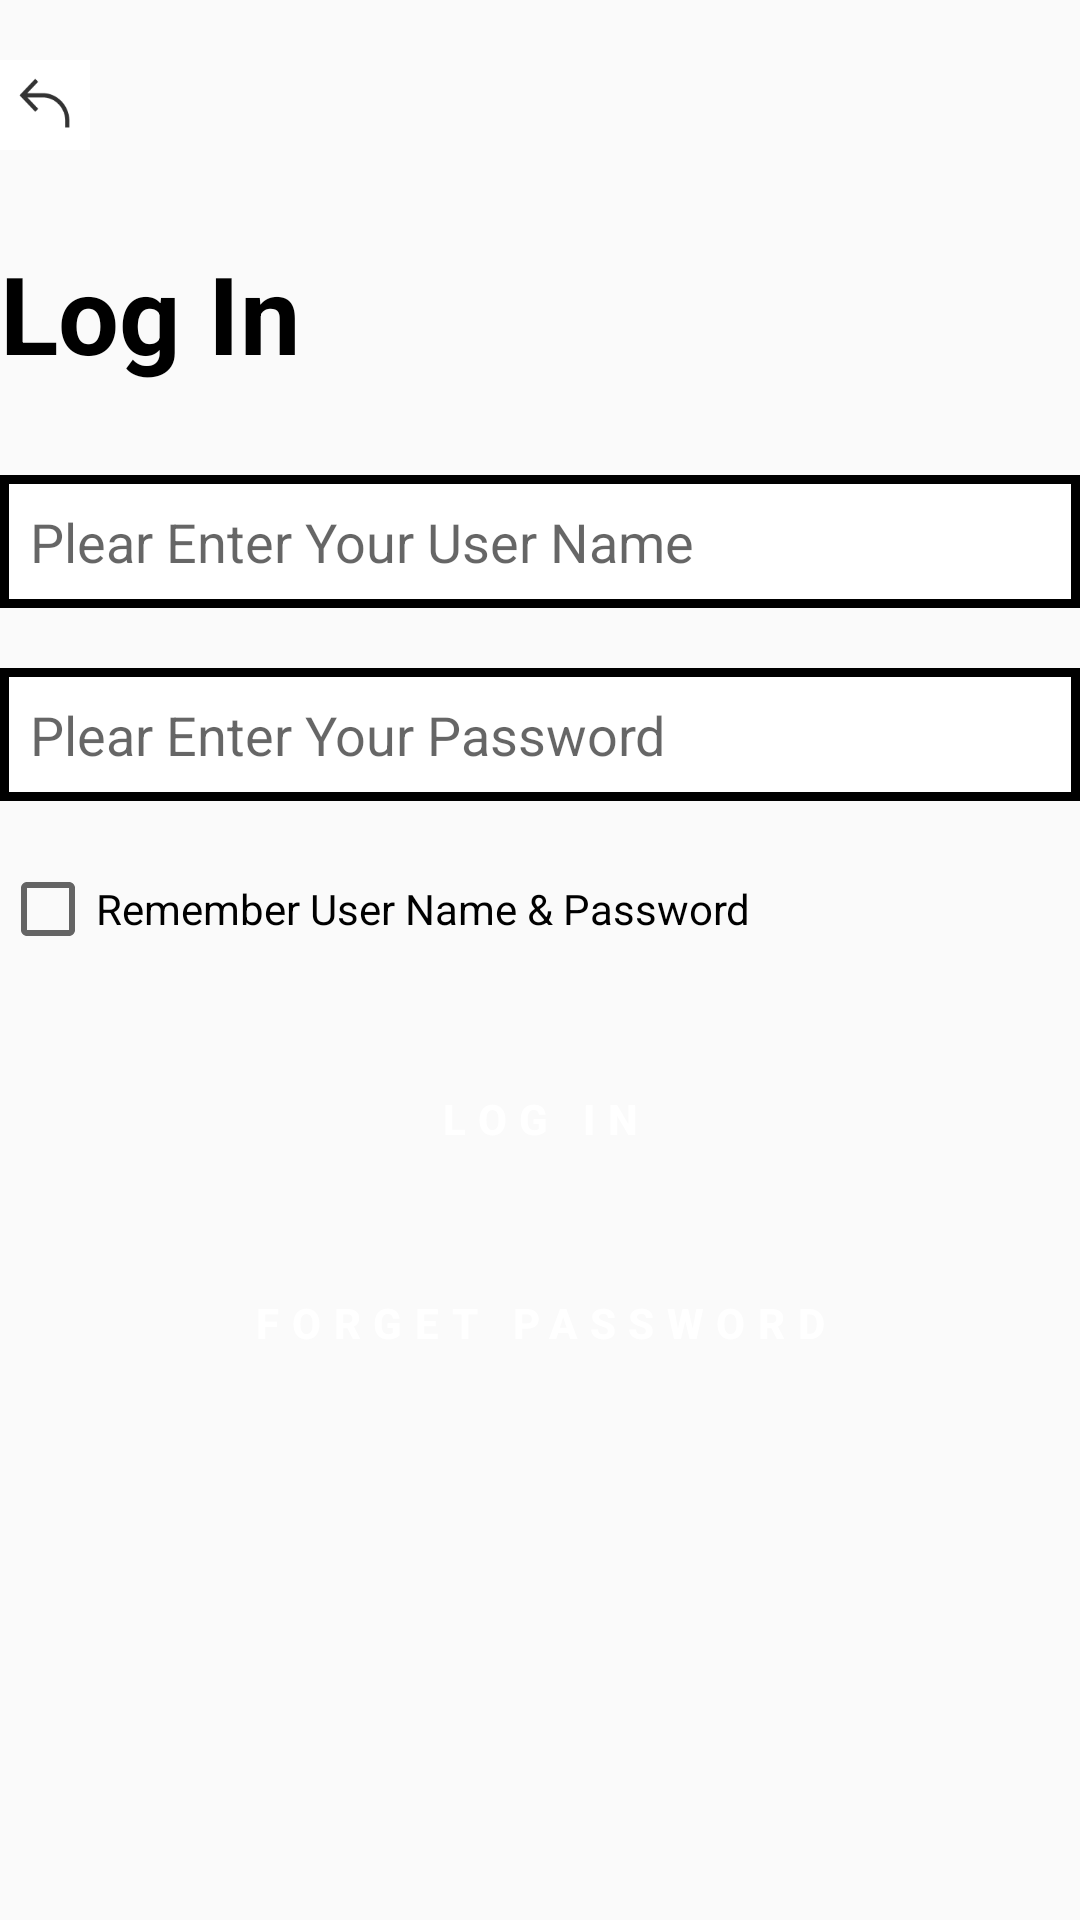

Named icons in this screenshot (1080 × 1920) and their bounding boxes, (x1, y1, x2, y2):
backbutton: (19, 79, 70, 128)
